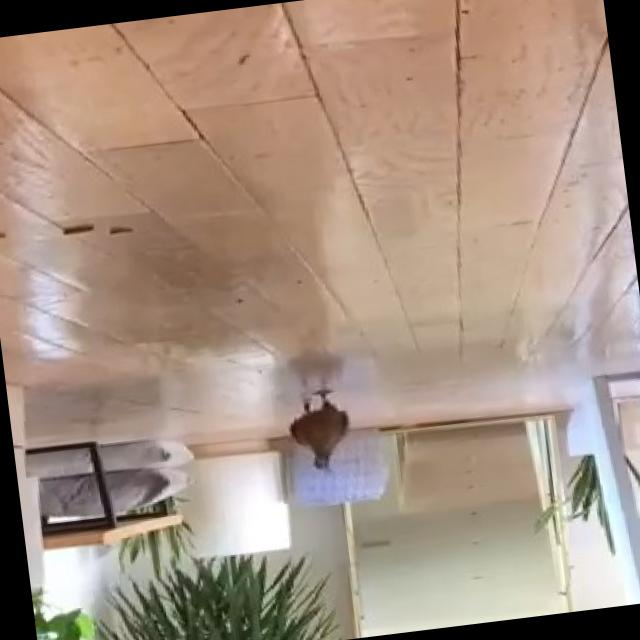running: (272, 371, 386, 476)
